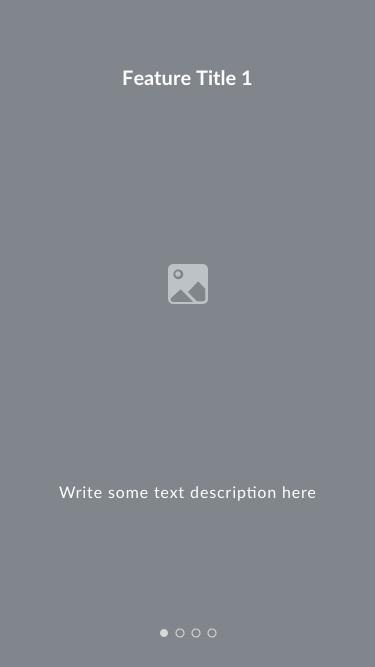Image: (168, 264, 209, 305)
PageIndicator: (160, 627, 219, 639)
Text: (58, 484, 318, 501), (122, 70, 254, 88)
